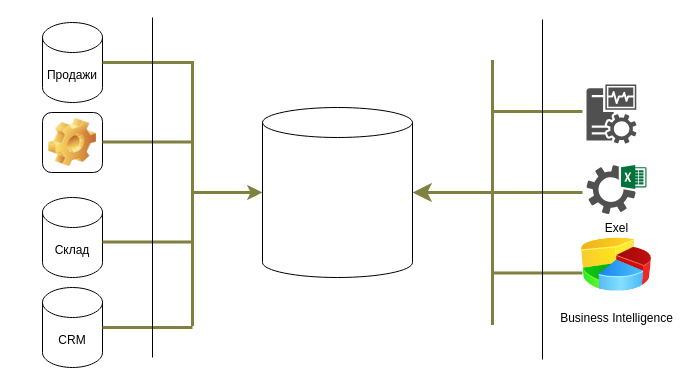
Some shapes in this 690 by 385 pixel diagram are drawn without their labels. Each missing label, with the centre of its shape:
"Google Analytics API" goes at pixel 72 142.
"SQL" goes at pixel 611 113.
"хранилище данных" goes at pixel 337 192.
